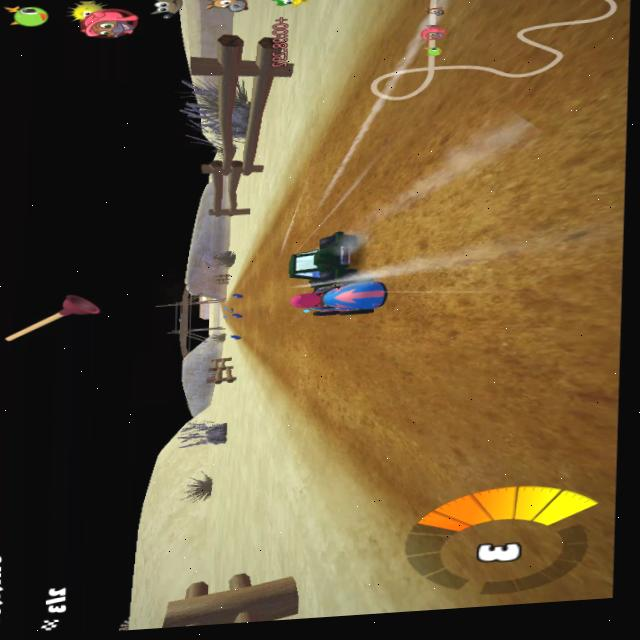enemy_kart: (289, 232, 366, 285)
nitro: (230, 332, 245, 341), (229, 291, 241, 298), (233, 313, 241, 318)
player_kart: (293, 279, 392, 319)
track: (393, 0, 628, 315), (464, 356, 617, 606), (251, 301, 620, 380), (370, 367, 473, 529), (303, 107, 398, 236), (309, 371, 364, 460), (253, 220, 289, 325), (273, 377, 312, 407), (282, 197, 302, 222), (228, 320, 252, 332), (237, 300, 255, 313), (217, 300, 228, 321), (238, 275, 255, 287), (224, 302, 239, 311)
